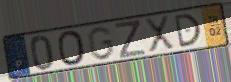0: (29, 34, 56, 72)
D: (173, 12, 203, 50)
G: (86, 25, 116, 62)
O: (56, 29, 88, 67)
X: (143, 14, 177, 54)
Z: (113, 19, 148, 60)
